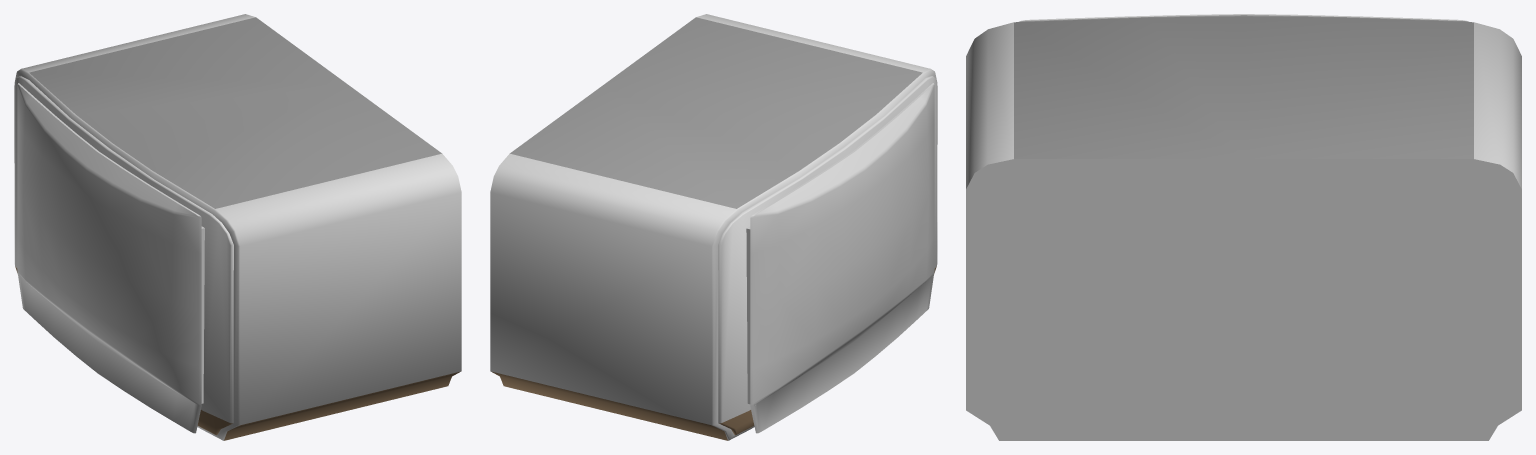
File: KOHLER5486T.FBX
3 renders of one model, left to right at view 1: azimuth 30°, elevation 25°; view 2: azimuth 150°, elevation 25°; view 3: azimuth 270°, elevation 25°, orthographic. The views are drawn at different scales.
Visible parts, largest first — view 1: KOHLER5486T; view 2: KOHLER5486T; view 3: KOHLER5486T.
Part boxes in pixels (left/top/right/bottom): KOHLER5486T: left=14, top=14, right=461, bottom=440; KOHLER5486T: left=490, top=14, right=937, bottom=440; KOHLER5486T: left=966, top=14, right=1521, bottom=440.
Size of the model in its own units: 21.4 by 31.1 by 17.4.
